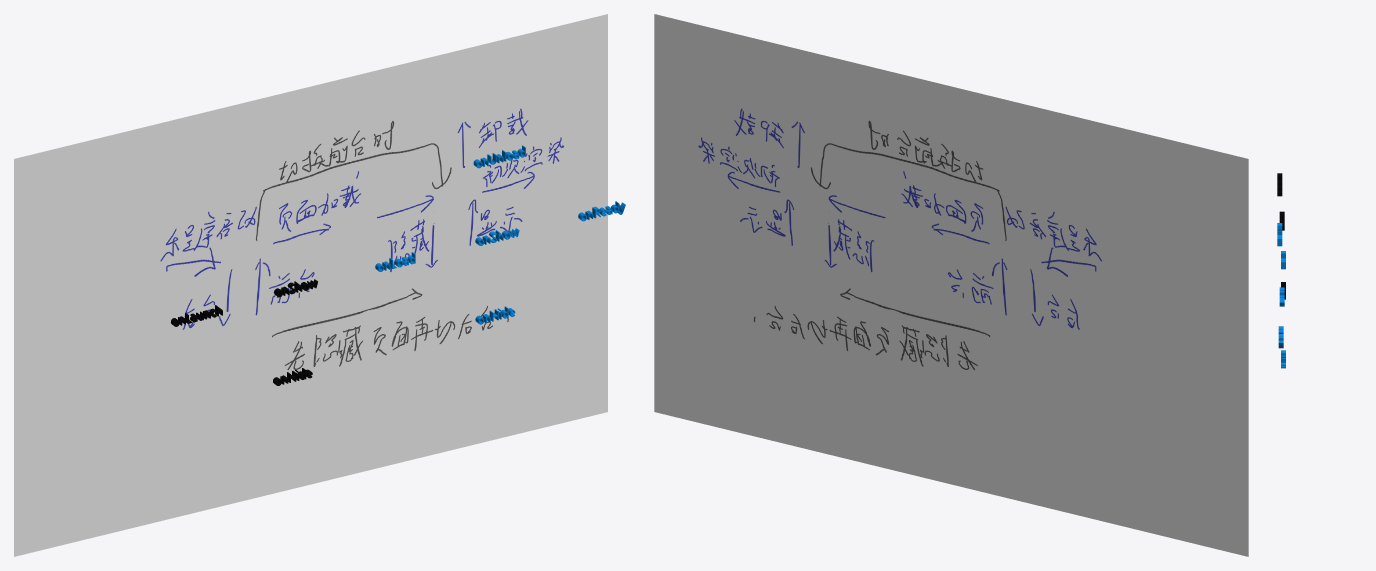
File: wechar页面和小程序生命周期.glb
3 views of the same model, side by side, from view 1: azimuth 30°, elevation 25°; view 2: azimuth 150°, elevation 25°; view 3: azimuth 270°, elevation 25° (orthographic). The views are drawn at different scales.
Parts seen in each view (by area): view 1: mesh_id1; view 2: mesh_id1; view 3: mesh_id62, mesh_id206, mesh_id229.
Boxes of the visible parts, left/top/right/bottom form: mesh_id1: left=14, top=14, right=607, bottom=556; mesh_id1: left=654, top=14, right=1248, bottom=556; mesh_id62: left=1277, top=173, right=1282, bottom=196; mesh_id206: left=1277, top=223, right=1282, bottom=246; mesh_id229: left=1278, top=326, right=1283, bottom=348.
Bounding box in the file's own units: 2.42 × 1.55 × 0.3782.
9 materials, 1 textured.
